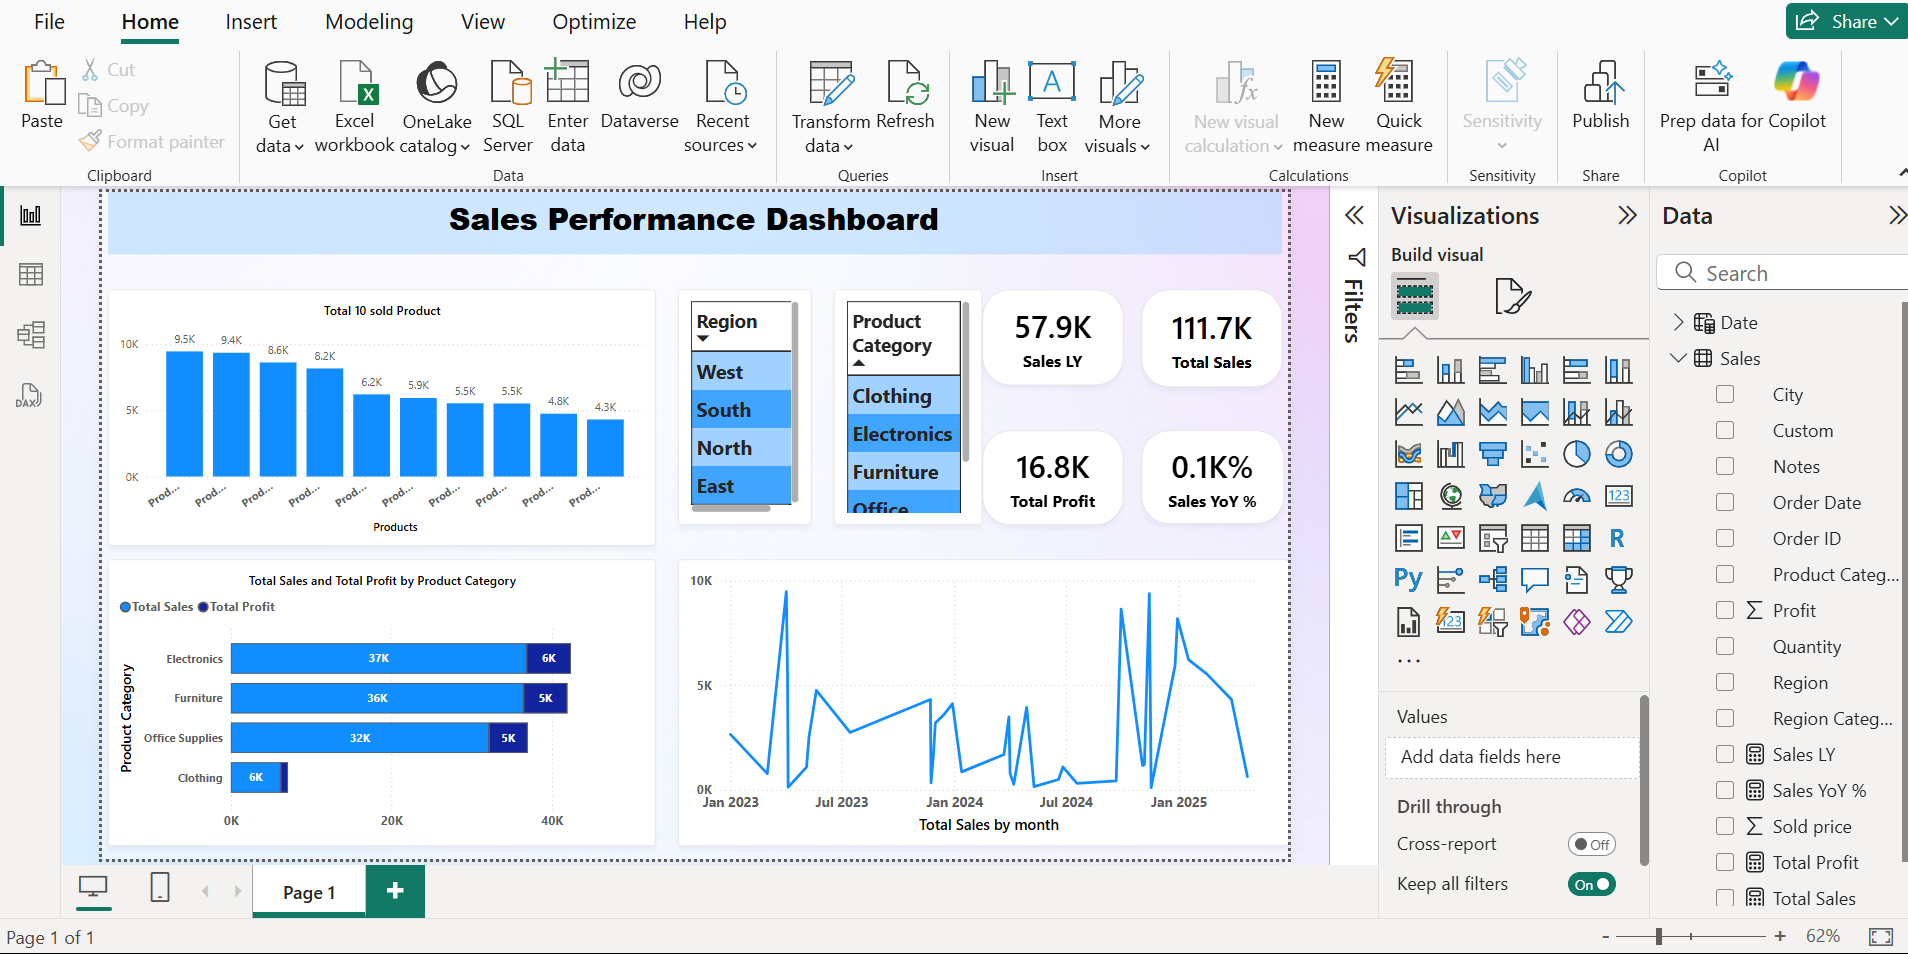

Layout of this report page (visuals, bound fields, positions):
{"tool":"powerbi","page":{"name":"Page 1","canvas":[1280,720],"ordinal":0},"visuals":[{"type":"card","fields":{"Values":["Sales.Total Sales"]},"box":[1096.2,197.5,178.1,92.3],"z":0},{"type":"lineChart","fields":{"Category":["Date.Date"],"Y":["Sales.Total Sales"]},"box":[621.8,396.7,659,309.3],"z":1000},{"type":"barChart","fields":{"Y":["Sales.Total Sales","Sales.Total Profit"],"Category":["Sales.Product Category"]},"box":[6.5,396.7,591,309.3],"z":2000},{"type":"columnChart","title":"Total 10 sold Product","fields":{"Category":["Sales.Custom"],"Y":["Sales.Total Sales"]},"box":[6.5,105.2,591,276.9],"z":3000},{"type":"tableEx","fields":{"Values":["Sales.Region"]},"box":[621.8,105.2,144.1,254.2],"z":4000},{"type":"card","fields":{"Values":["Sales.Total Profit"]},"box":[973.2,289.8,183,93.9],"z":5000},{"type":"tableEx","fields":{"Values":["Sales.Product Category"]},"box":[790.2,105.2,160.3,254.2],"z":6000},{"type":"card","fields":{"Values":["Sales.Sales LY"]},"box":[973.2,105.2,178.1,92.3],"z":7000},{"type":"textbox","box":[7.1,0,1267.1,67.1],"z":8000}]}

Visuals, with their boxes on the page's 1280x720 design canvas (x1, y1, x2, y2). These are canvas units, not pixel positions in the 1908x954 screenshot, which may show the page scaled, cropped or inside an application window:
card - Sales.Total Sales: [1096,198,1274,290]
lineChart - Date.Date x Sales.Total Sales: [622,397,1281,706]
barChart - Sales.Total Sales x Sales.Total Profit: [6,397,598,706]
"Total 10 sold Product" columnChart: [6,105,598,382]
tableEx - Sales.Region: [622,105,766,359]
card - Sales.Total Profit: [973,290,1156,384]
tableEx - Sales.Product Category: [790,105,950,359]
card - Sales.Sales LY: [973,105,1151,198]
textbox: [7,0,1274,67]
